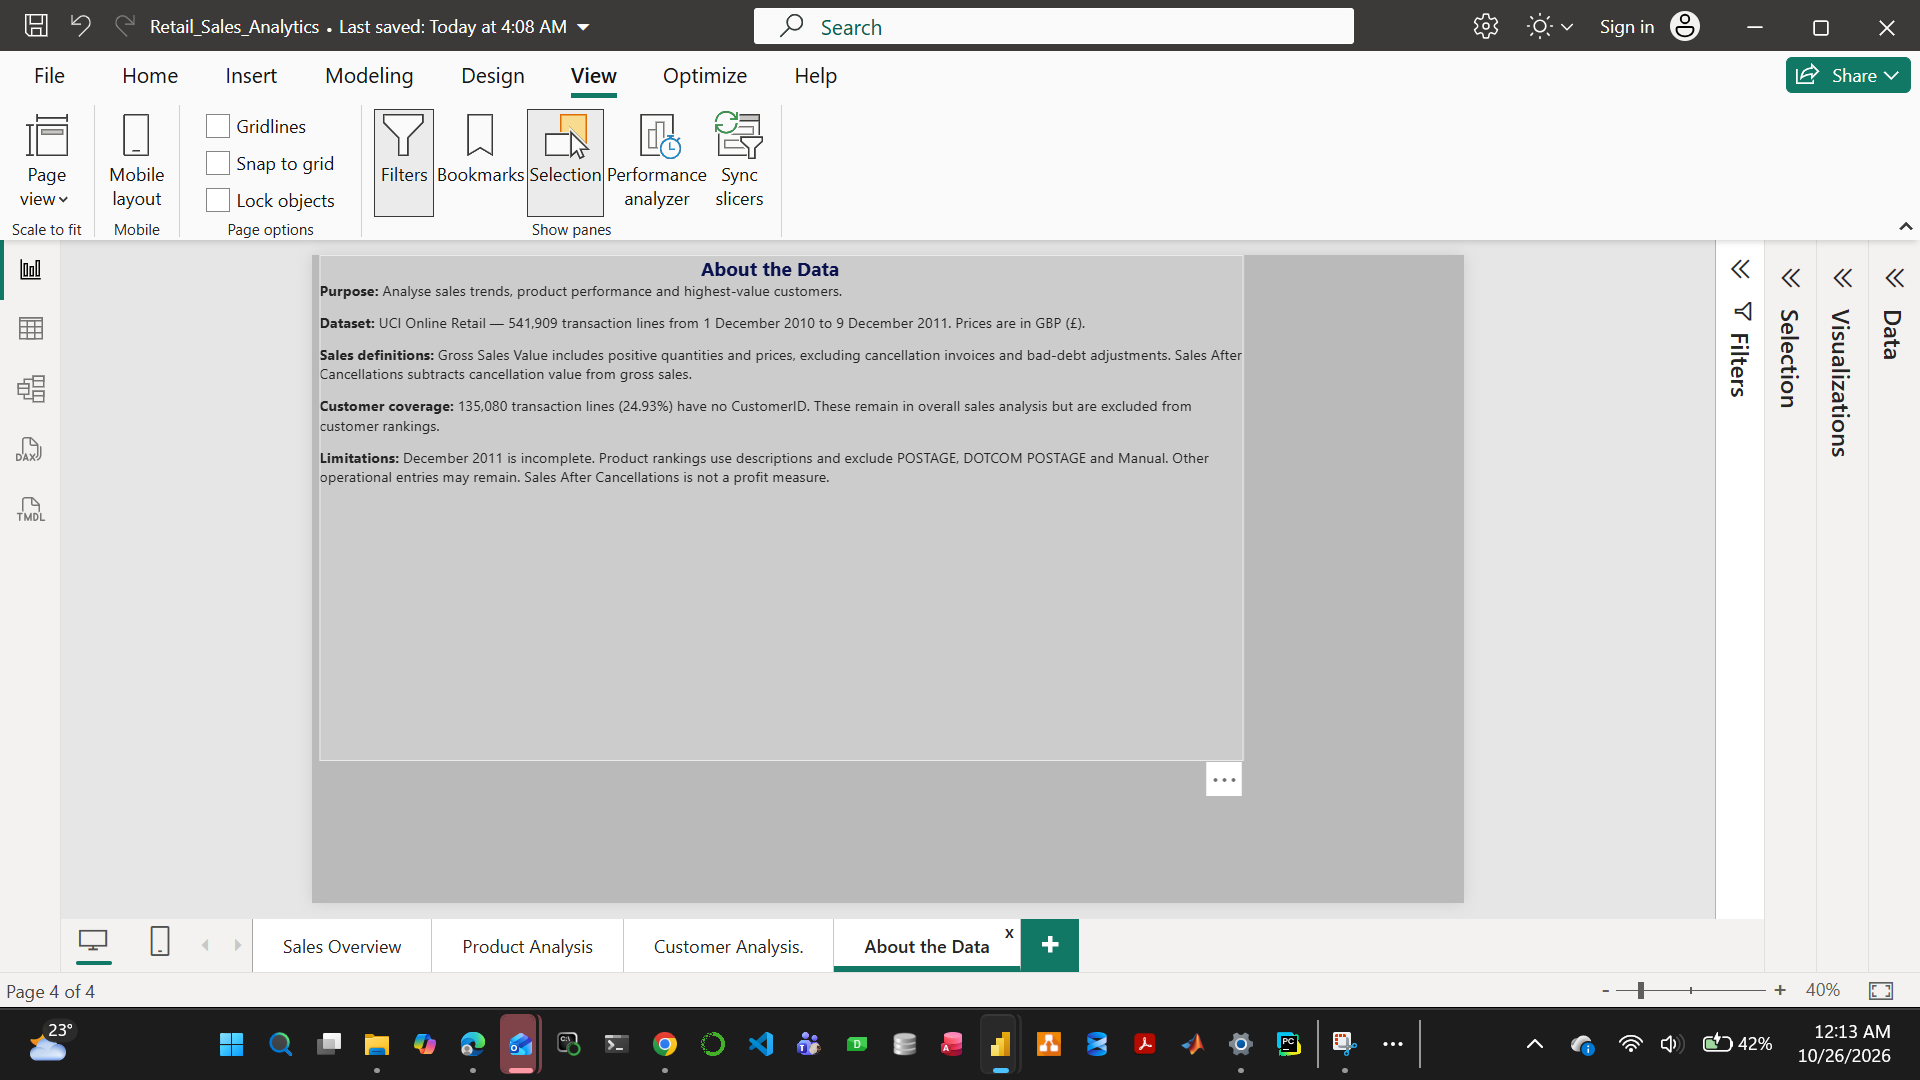

What the dashboard file says about the page in this screenshot:
{"tool":"powerbi","page":{"name":"About the Data","canvas":[1920,1080],"ordinal":3},"visuals":[{"type":"textbox","box":[12,0,1541.6,842.5],"z":0}]}

Visuals, with their boxes on the page's 1920x1080 design canvas (x1, y1, x2, y2). These are canvas units, not pixel positions in the 1920x1080 screenshot, which may show the page scaled, cropped or inside an application window:
textbox: <bbox>12, 0, 1554, 842</bbox>
